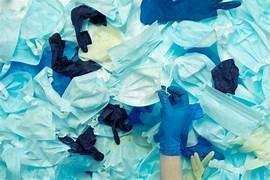Glove: (140, 0, 241, 24), (154, 86, 189, 155), (49, 33, 100, 77), (230, 126, 269, 169), (71, 5, 106, 51), (58, 127, 103, 160), (98, 104, 131, 144), (181, 136, 223, 159), (211, 59, 238, 93), (191, 151, 214, 179), (128, 105, 152, 124)
